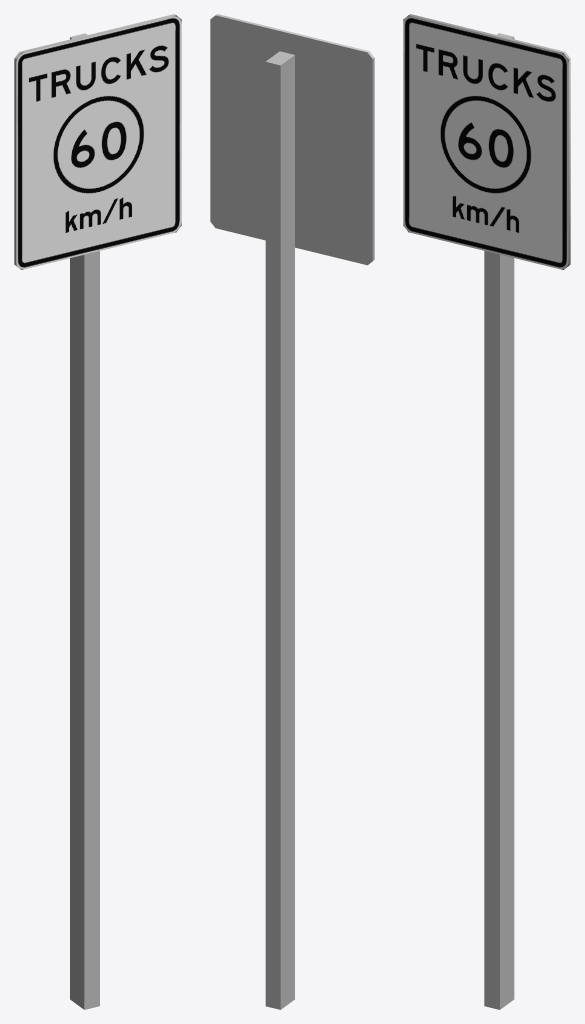
The model's file is SM_warning_sign_09.fbx.
The picture shows the model from 3 angles, left to right: view 1: azimuth 30°, elevation 25°; view 2: azimuth 150°, elevation 25°; view 3: azimuth 330°, elevation 25°; orthographic projection.
Visible parts, largest first — view 1: warning_sign_09; view 2: warning_sign_09; view 3: warning_sign_09.
Boxes of the visible parts, x1,y1,x2,y2 form: warning_sign_09: [14, 14, 181, 1009]; warning_sign_09: [210, 14, 374, 1009]; warning_sign_09: [403, 14, 570, 1009].
Bounding box in the file's own units: 52.38 × 296 × 11.54.
